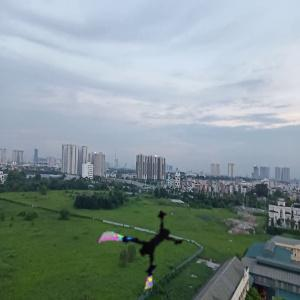drone: (106, 208, 190, 292)
